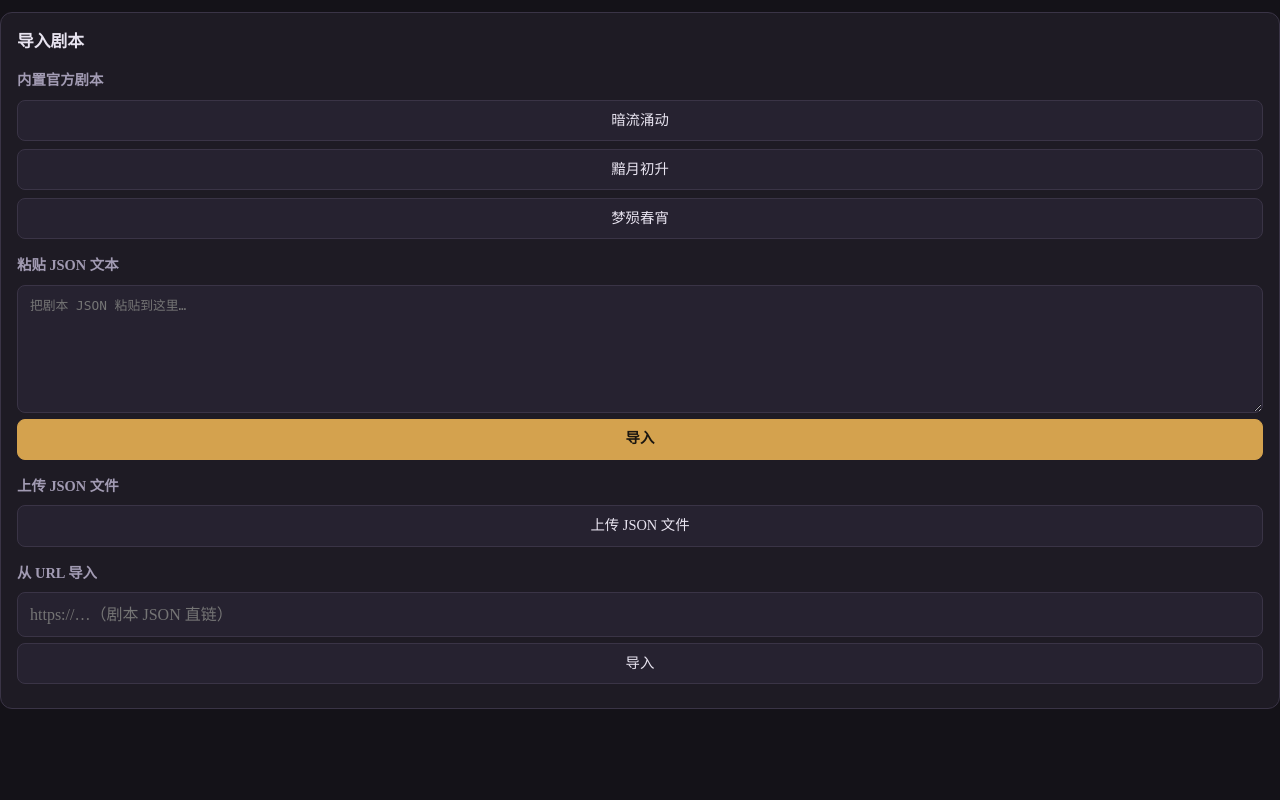
ScriptImport（F-01） › URL 拉取失败：引导粘贴/上传
In the field with placeholder "https://…（剧本 JSON 直链）": {"x": 640, "y": 615} [17,592,1263,637], type "https://example.com/s.json"
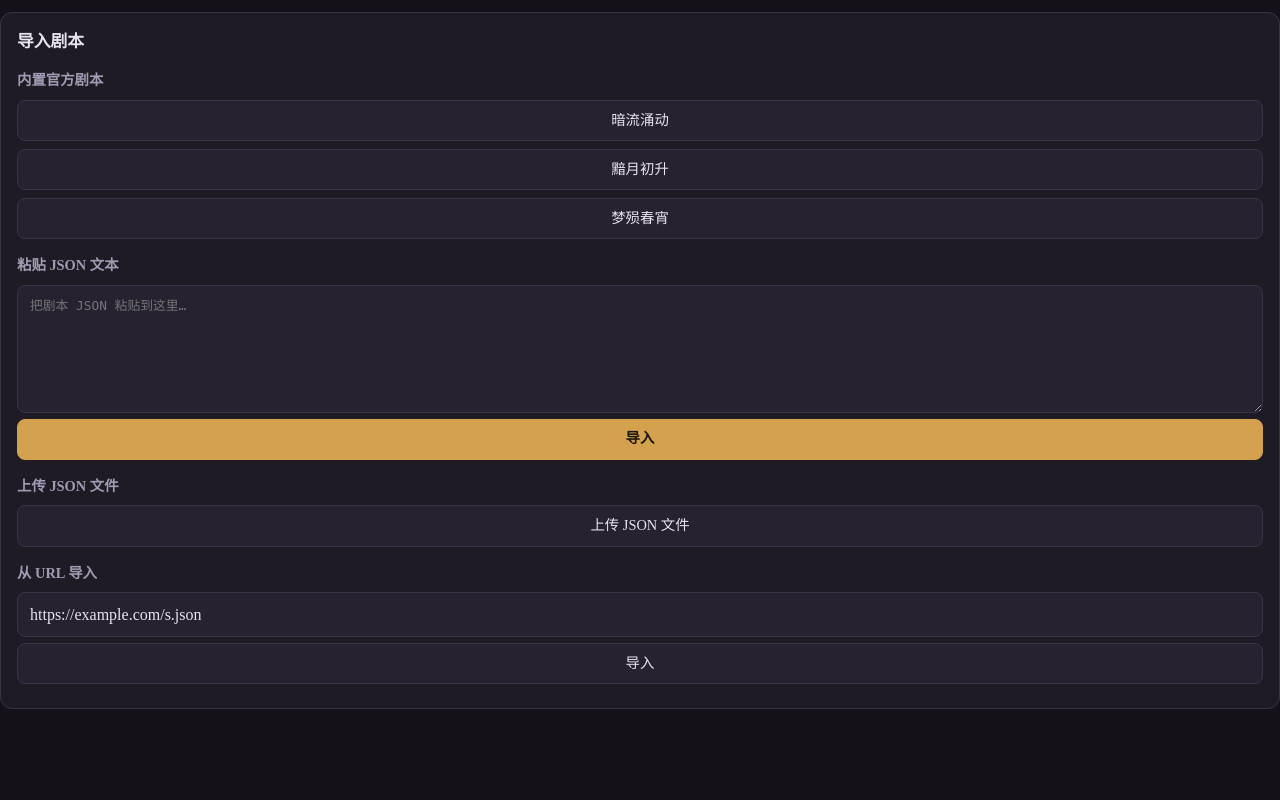
Click the 2nd button "导入": {"x": 640, "y": 664} [17,643,1263,684]
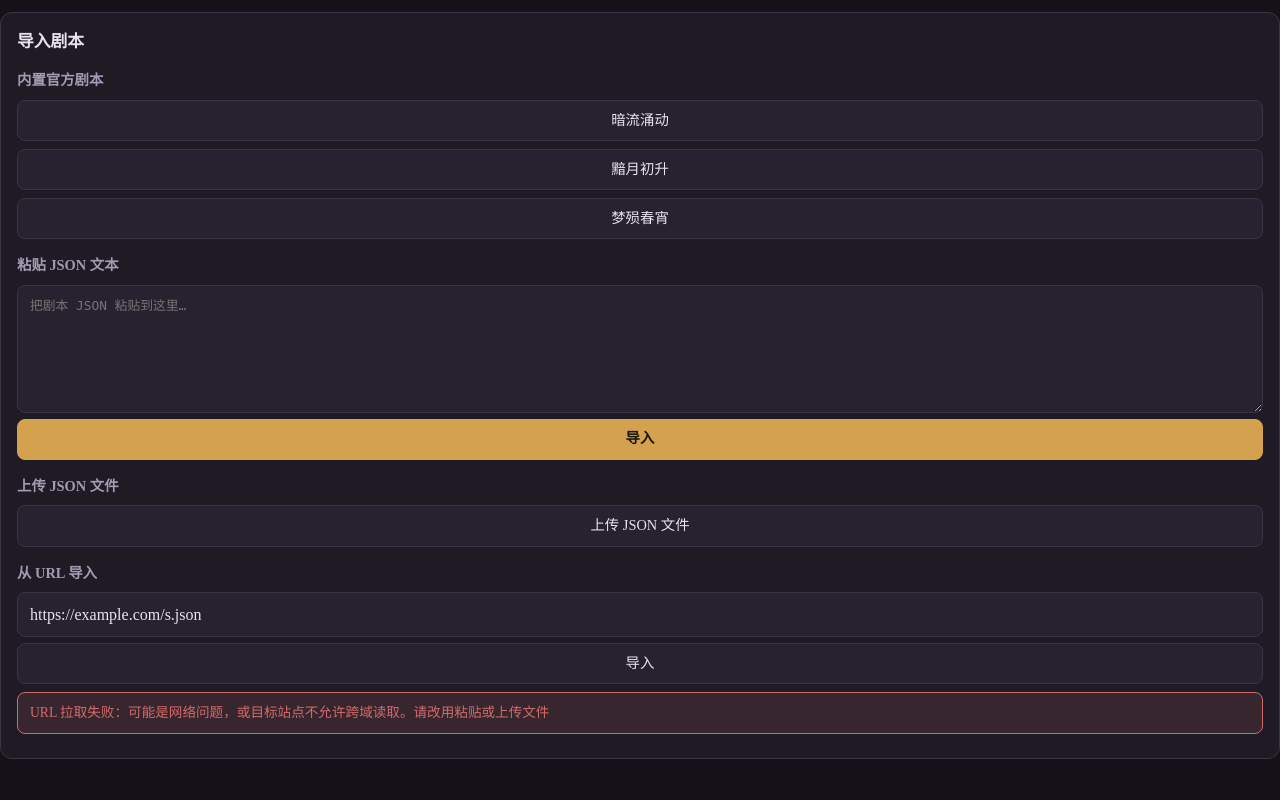
Result: the message shows "URL 拉取失败" at [30,705,550,720]
